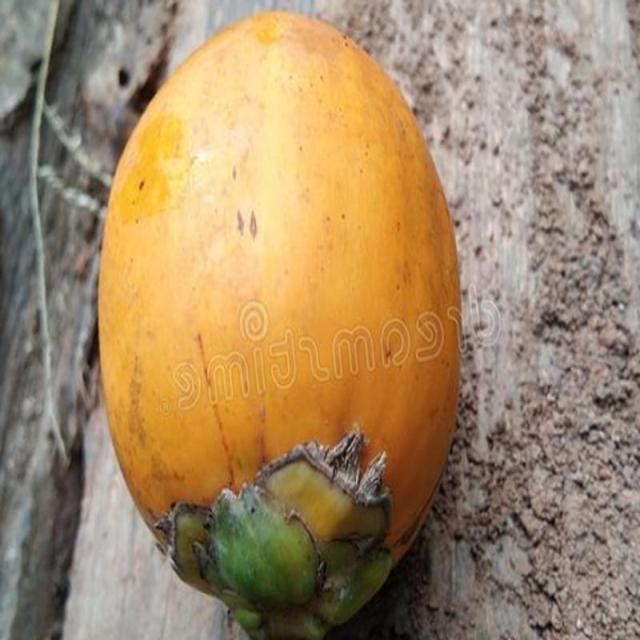good: (96, 11, 462, 639)
